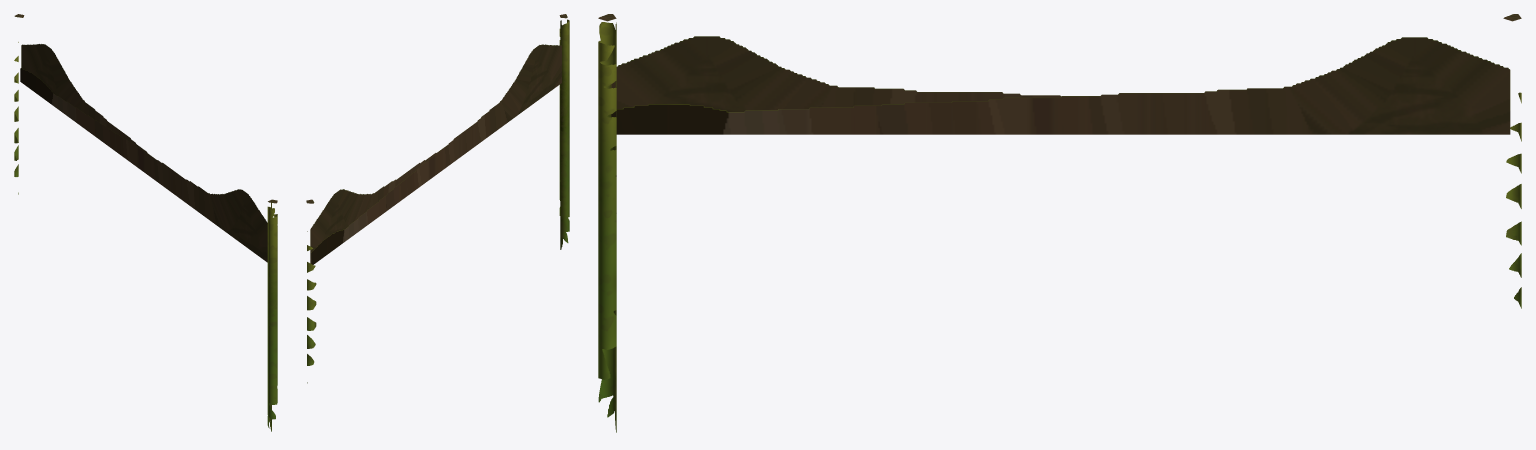
Rendered from Net_Wire.fbx.
3 renders of one model, left to right at view 1: azimuth 30°, elevation 25°; view 2: azimuth 150°, elevation 25°; view 3: azimuth 270°, elevation 25°, orthographic. The views are drawn at different scales.
Parts seen in each view (by area): view 1: pCylinder6; view 2: pCylinder6; view 3: pCylinder6.
Boxes of the visible parts, box(x1,y1,x2,y2) form: pCylinder6: box(14, 14, 277, 431); pCylinder6: box(306, 14, 569, 383); pCylinder6: box(598, 14, 1521, 432).
Size of the model in its own units: 1.8 by 47.02 by 94.94.
